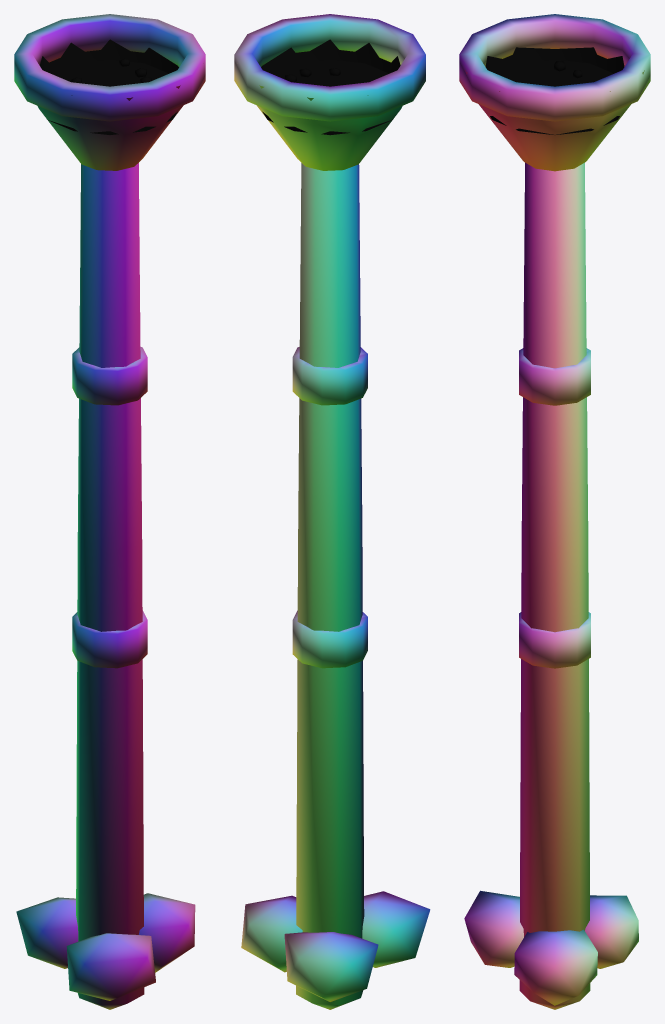
File: SM_Prop_Camp_Torch.fbx
3 renders of one model, left to right at view 1: azimuth 30°, elevation 25°; view 2: azimuth 150°, elevation 25°; view 3: azimuth 270°, elevation 25°, orthographic.
Visible parts, largest first — view 1: SM_Prop_Camp_Torch; view 2: SM_Prop_Camp_Torch; view 3: SM_Prop_Camp_Torch.
Part boxes in pixels (x1,y1,x2,y2): SM_Prop_Camp_Torch: [14, 14, 205, 1009]; SM_Prop_Camp_Torch: [234, 14, 430, 1009]; SM_Prop_Camp_Torch: [459, 14, 650, 1009].
Size of the model in its own units: 0.3345 by 1.82 by 0.3302.
